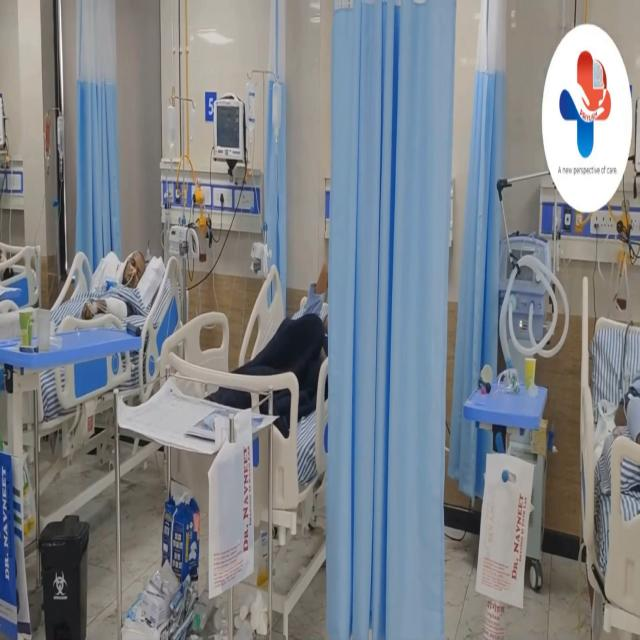Movement-Yes: (284, 230, 329, 368)
